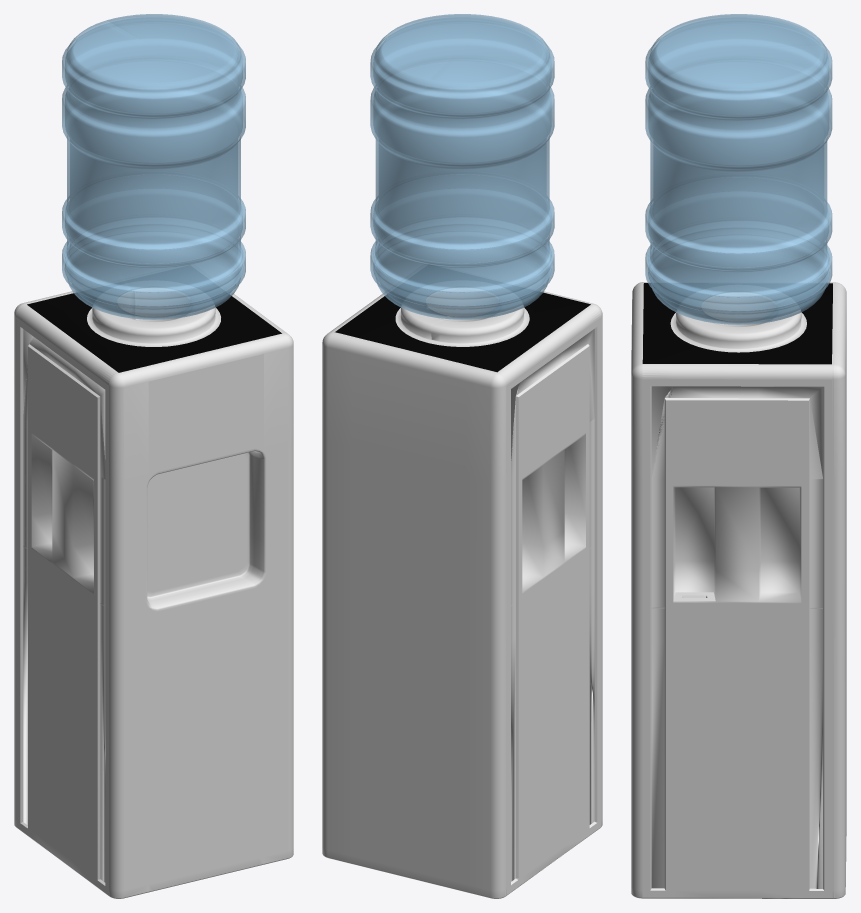
The model's file is Water Cooler.fbx.
The picture shows the model from 3 angles, left to right: view 1: azimuth 30°, elevation 25°; view 2: azimuth 150°, elevation 25°; view 3: azimuth 270°, elevation 25°; orthographic projection.
Parts seen in each view (by area): view 1: arch20_098, arch20_090; view 2: arch20_098, arch20_090; view 3: arch20_098, arch20_090.
Part boxes in pixels (box(x1,y1,x2,y2)): arch20_098: box(14, 288, 293, 898); arch20_090: box(62, 14, 245, 319); arch20_098: box(322, 288, 602, 898); arch20_090: box(370, 14, 554, 319); arch20_098: box(631, 282, 846, 898); arch20_090: box(645, 14, 832, 324).
Size of the model in its own units: 32894 by 139399 by 32894.
